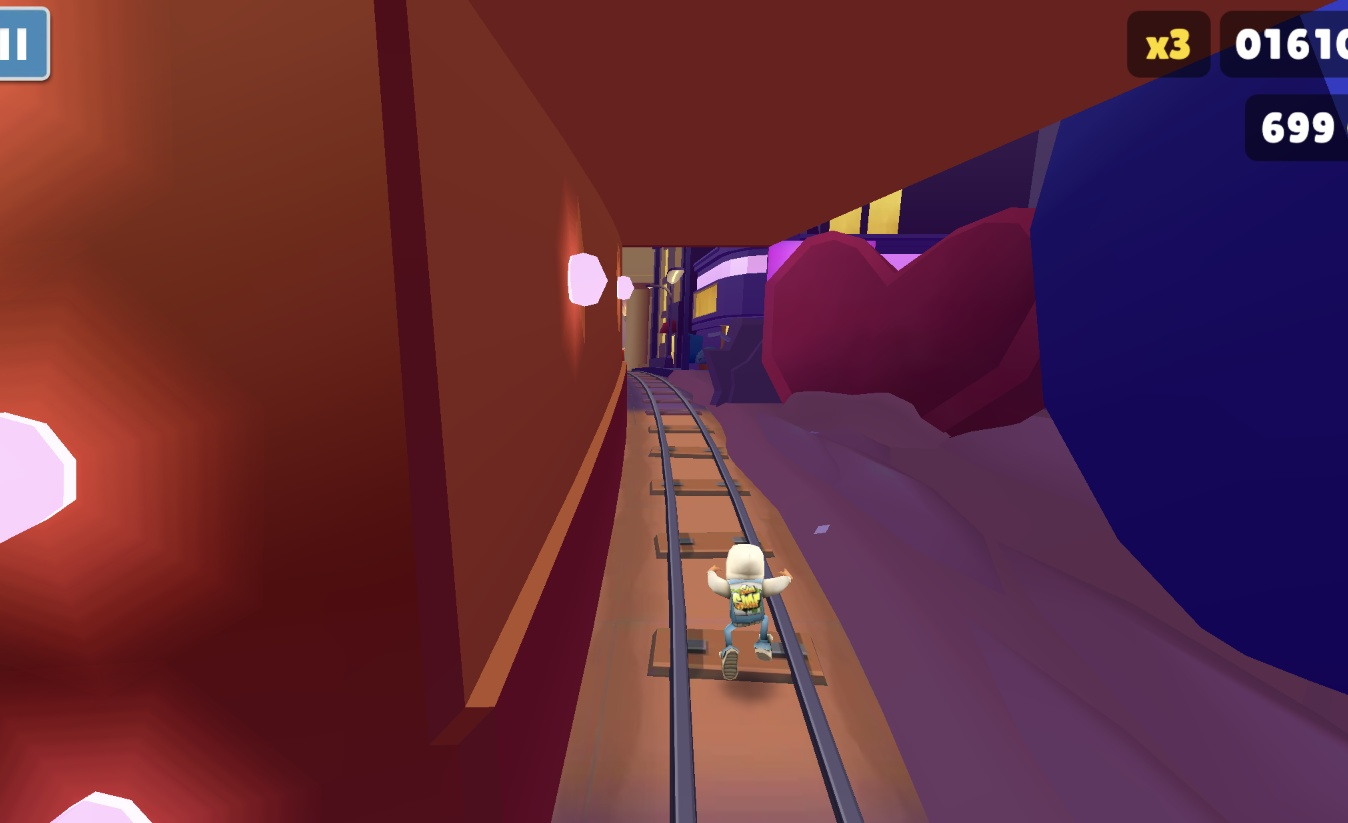pillar: (0, 0, 627, 823)
